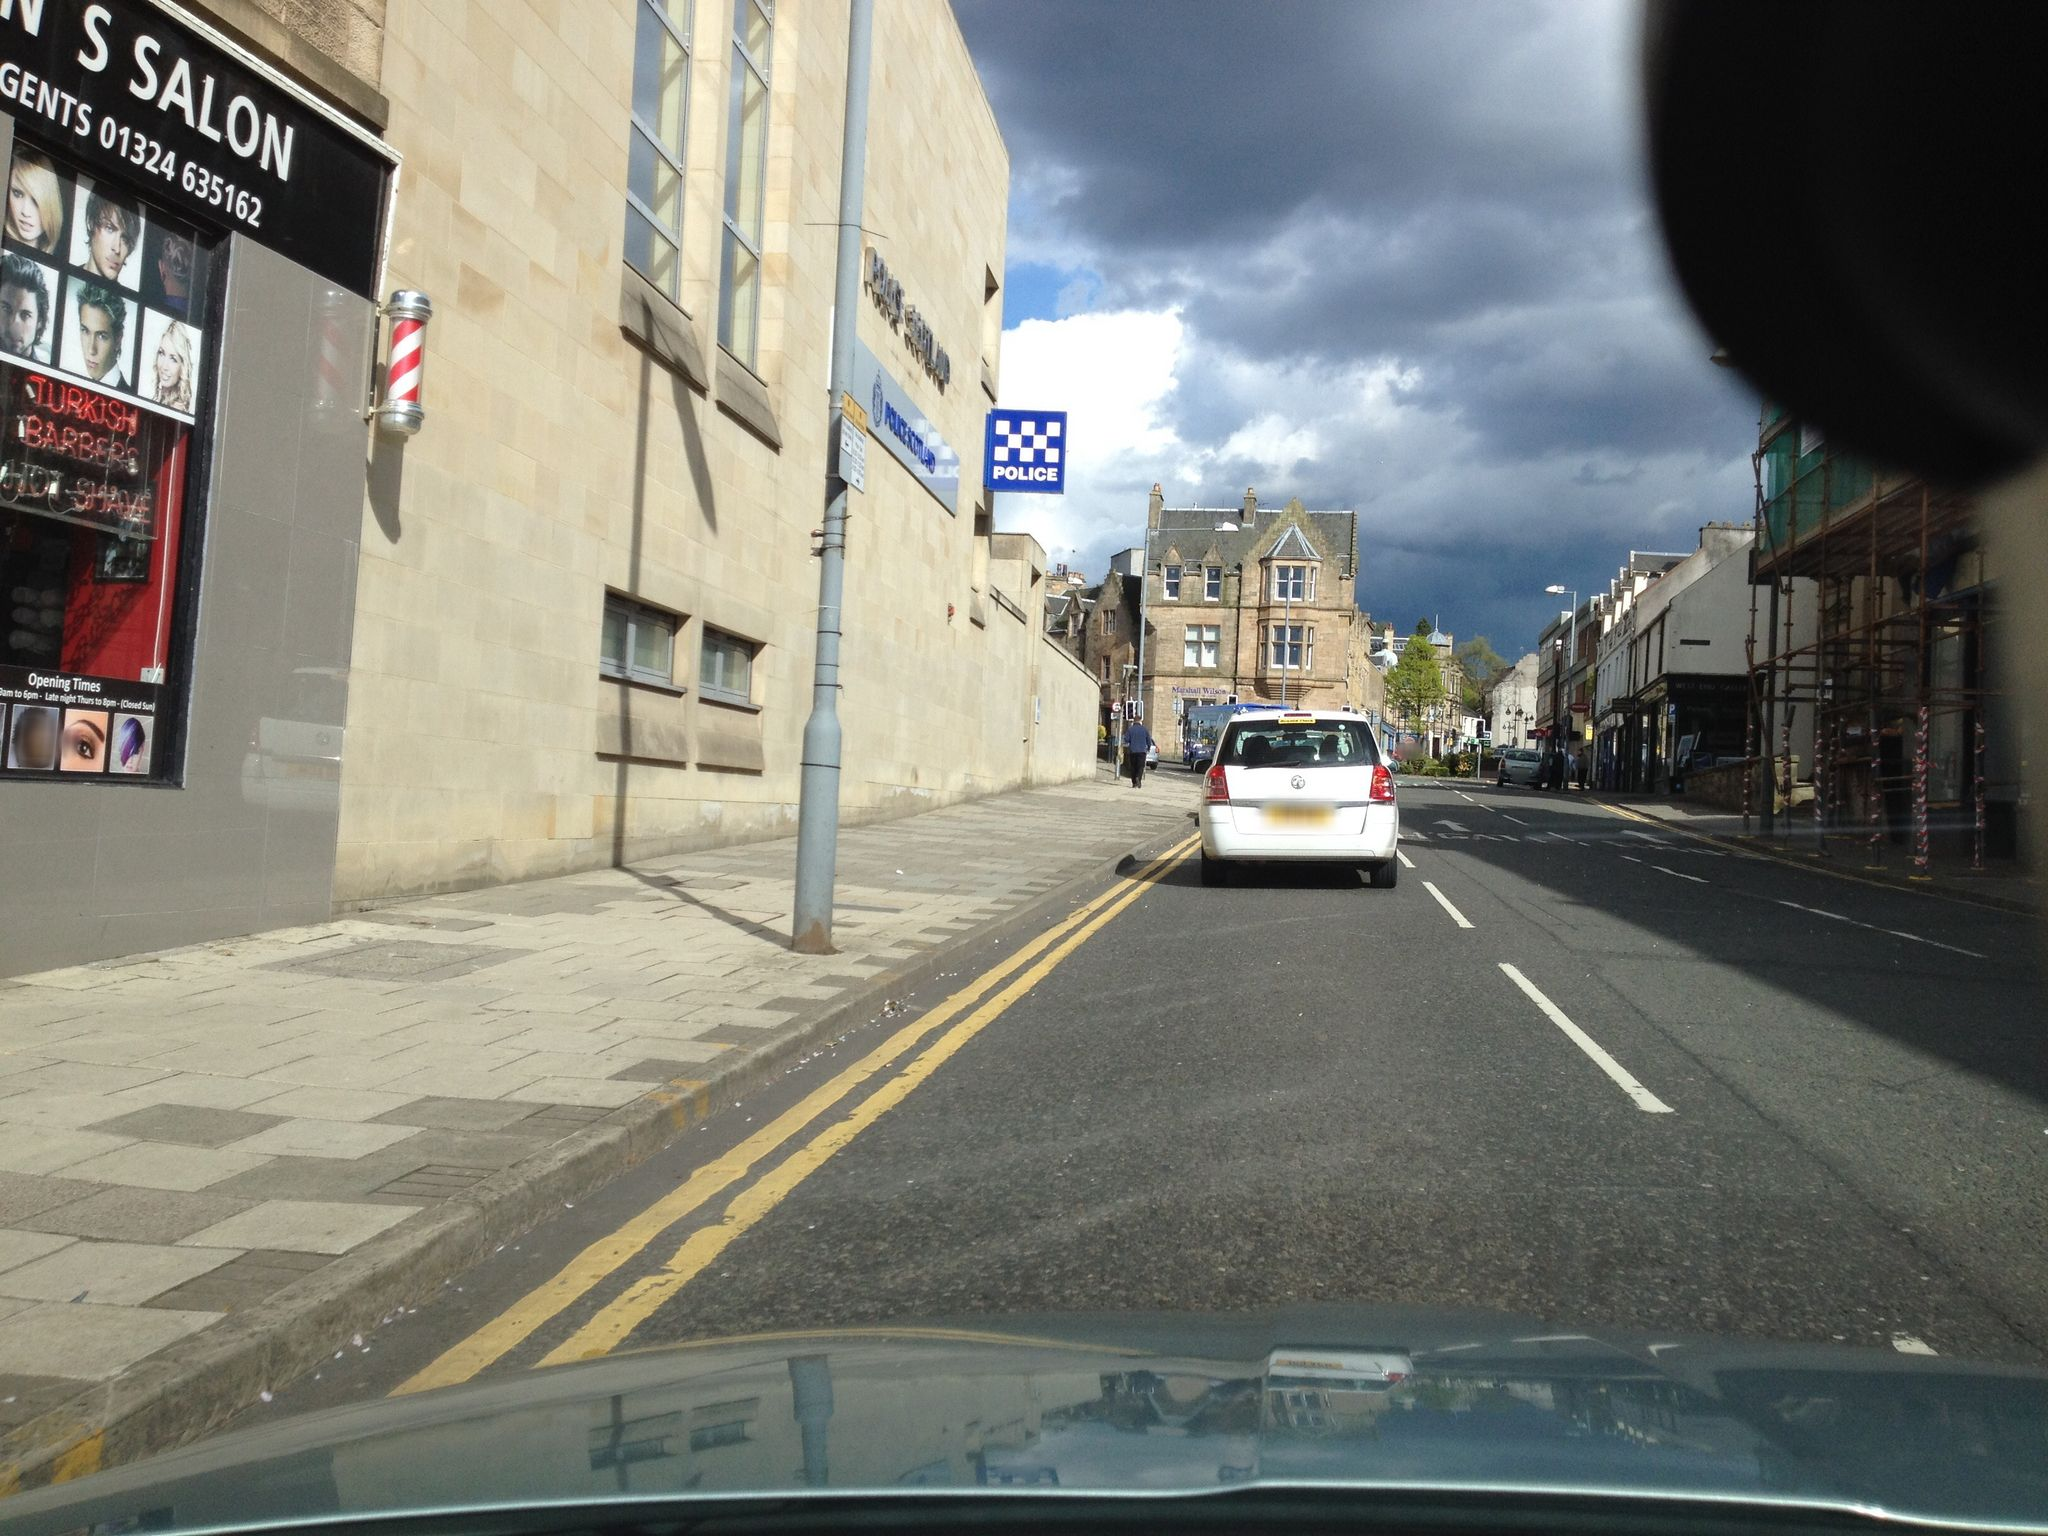car: (1197, 707, 1401, 887), (1496, 749, 1542, 789)
